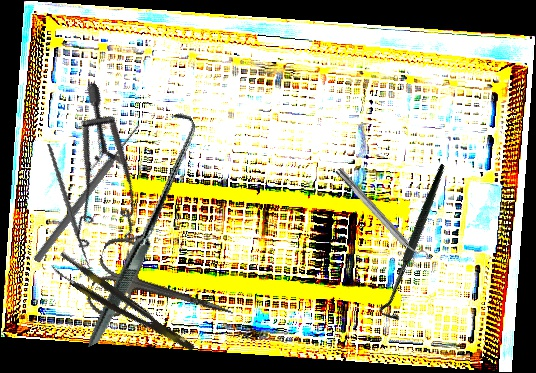Fixation Ring: (331, 162, 431, 270)
Hook Surgical: (15, 109, 261, 347), (332, 162, 502, 327), (22, 144, 126, 280)
Iris Scissors: (83, 231, 246, 354)
Pusher: (31, 120, 145, 265)
Speculum: (6, 79, 181, 271)
Tissue Forceps: (48, 250, 197, 364)
